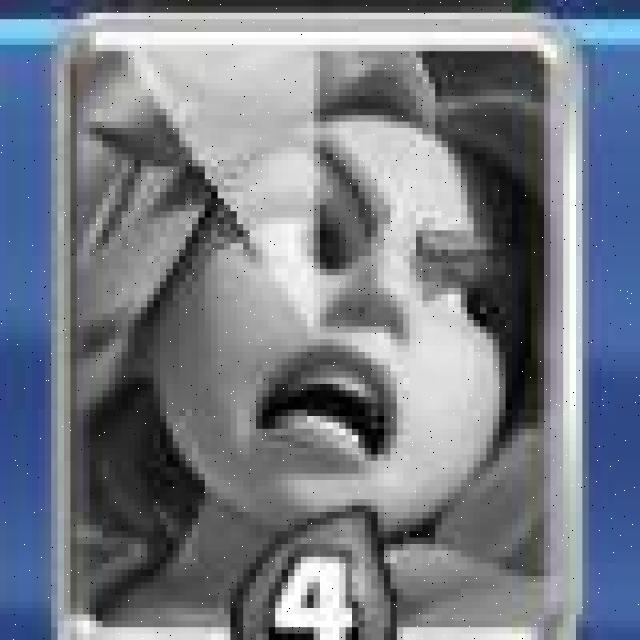Valkyrie: (54, 23, 575, 640)
